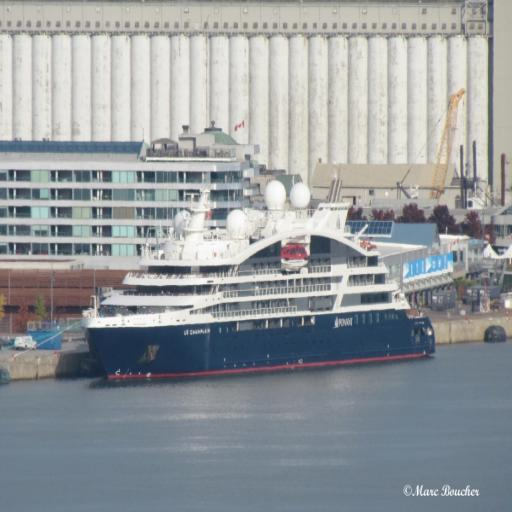cruises: (81, 186, 445, 391)
